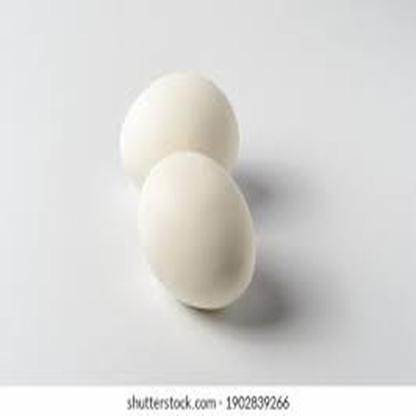egg: (133, 148, 260, 314), (118, 69, 244, 192)
